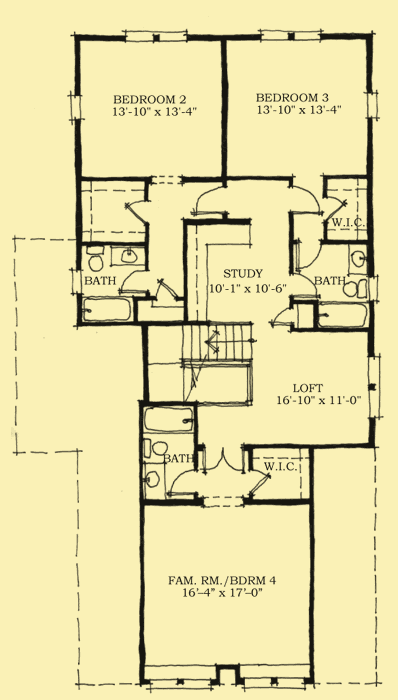door: (187, 185, 230, 219), (199, 443, 247, 473), (288, 182, 321, 218), (119, 195, 153, 228), (115, 267, 152, 297), (295, 240, 327, 274), (165, 468, 197, 498), (245, 469, 273, 503), (264, 305, 293, 330)
large_sink: (335, 276, 371, 303), (80, 246, 107, 276)
small_sink: (346, 243, 370, 278)
stairs: (179, 324, 254, 364)
tub: (316, 296, 373, 329), (141, 405, 196, 436), (78, 293, 135, 322)
window: (120, 28, 194, 45), (253, 26, 327, 41)
